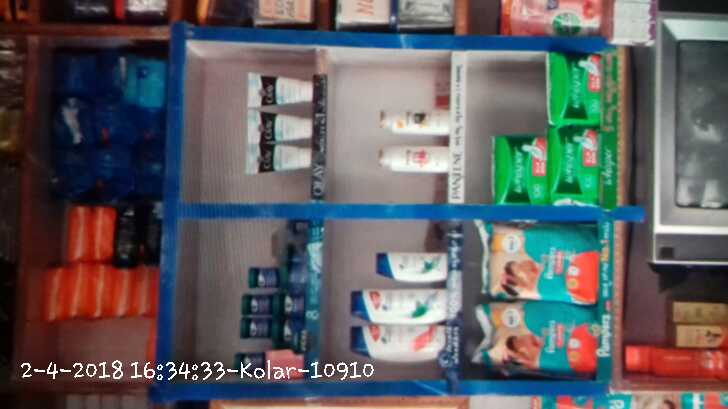vicks: (234, 217, 312, 376)
